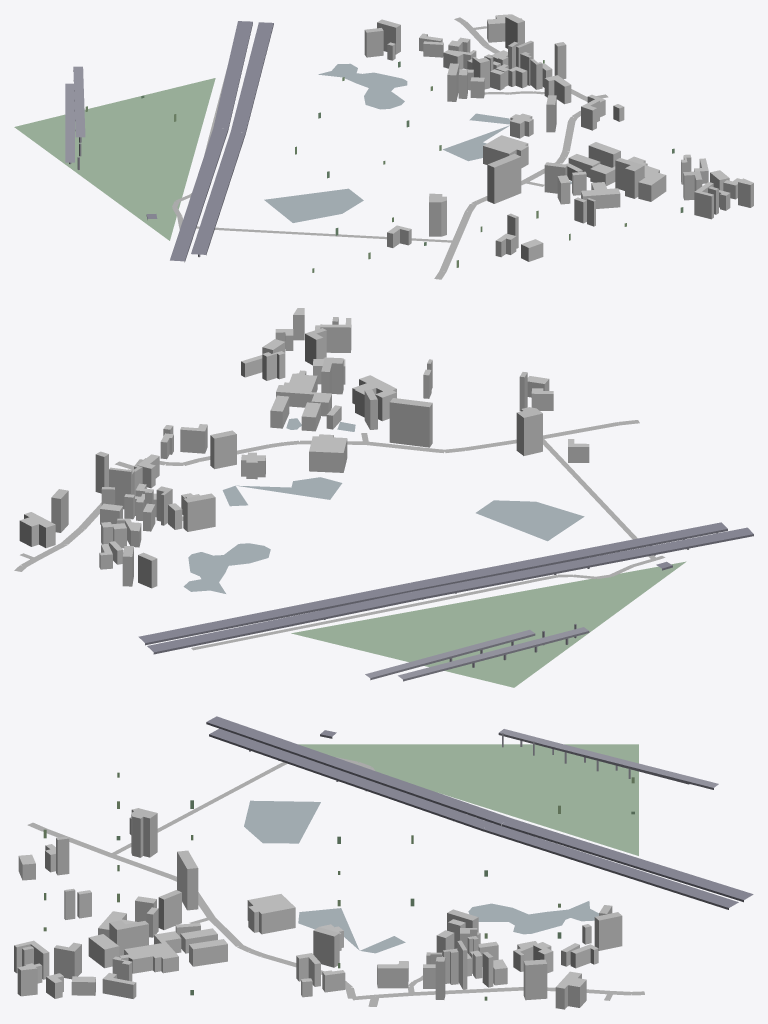
3 views of the same model, one above another, from view 1: azimuth 30°, elevation 25°; view 2: azimuth 150°, elevation 25°; view 3: azimuth 270°, elevation 25° (orthographic). The views are drawn at different scales.
Size of the model in its own units: 542 by 44.57 by 604.
